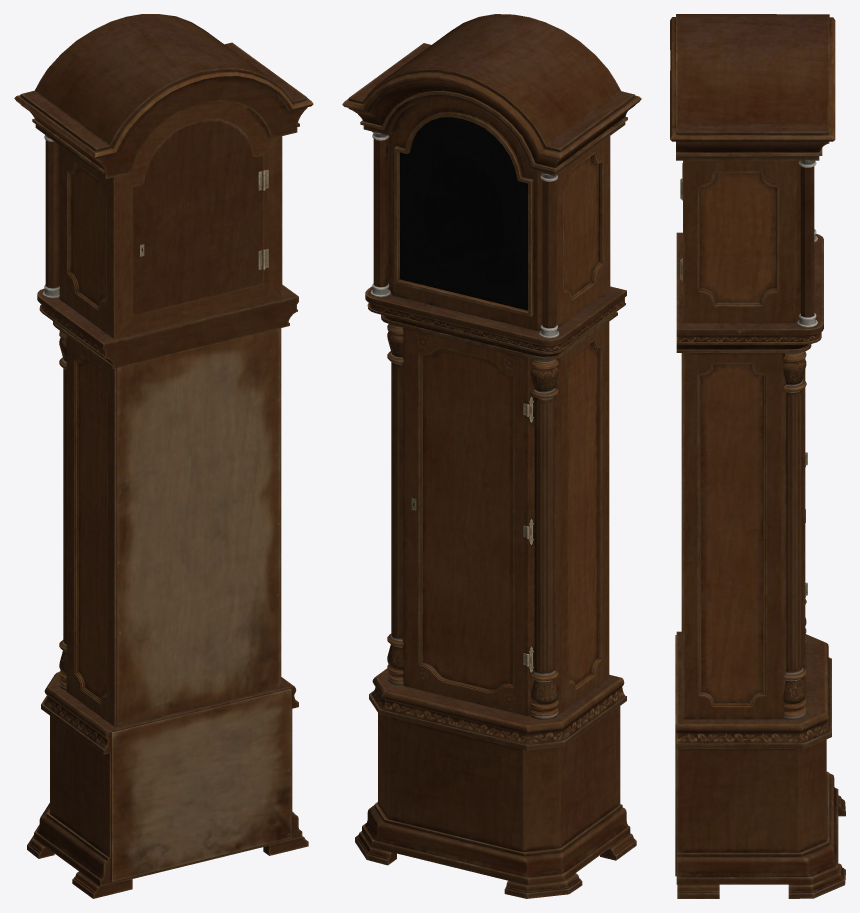
Rendered from clock-grandfather.glb.
3 views of the same model, side by side, from view 1: azimuth 30°, elevation 25°; view 2: azimuth 150°, elevation 25°; view 3: azimuth 270°, elevation 25° (orthographic). The views are drawn at different scales.
Visible parts, largest first — view 1: clock-grandfather; view 2: clock-grandfather; view 3: clock-grandfather.
Part boxes in pixels (x1,y1,x2,y2): clock-grandfather: (14, 14, 313, 898); clock-grandfather: (342, 14, 641, 898); clock-grandfather: (670, 14, 845, 898).
Size of the model in its own units: 0.6256 by 2.19 by 0.4266.
2 materials, 2 textured.
